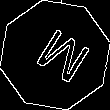M_SW: (22, 21, 88, 89)
